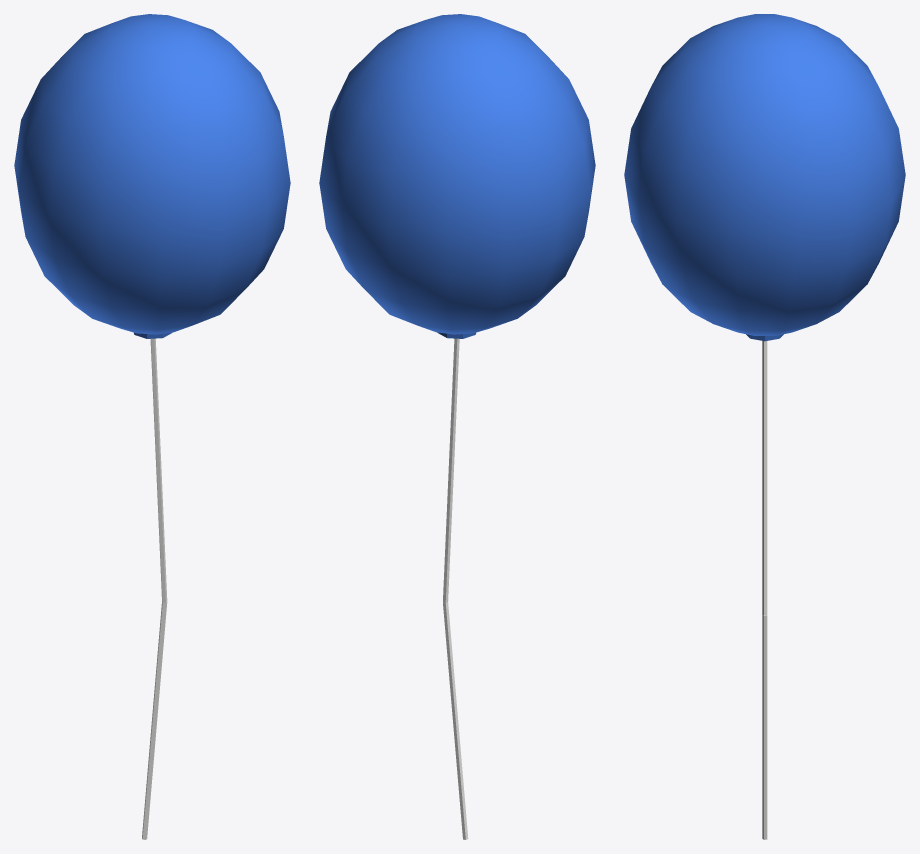
The model's file is balloon_blue.gltf.
The picture shows the model from 3 angles, left to right: view 1: azimuth 30°, elevation 25°; view 2: azimuth 150°, elevation 25°; view 3: azimuth 270°, elevation 25°; orthographic projection.
Parts seen in each view (by area): view 1: balloon_blue; view 2: balloon_blue; view 3: balloon_blue.
Part boxes in pixels (x1,y1,x2,y2): balloon_blue: (14, 14, 290, 839); balloon_blue: (319, 14, 595, 839); balloon_blue: (624, 14, 905, 839).
Size of the model in its own units: 0.585 by 1.92 by 0.6.
